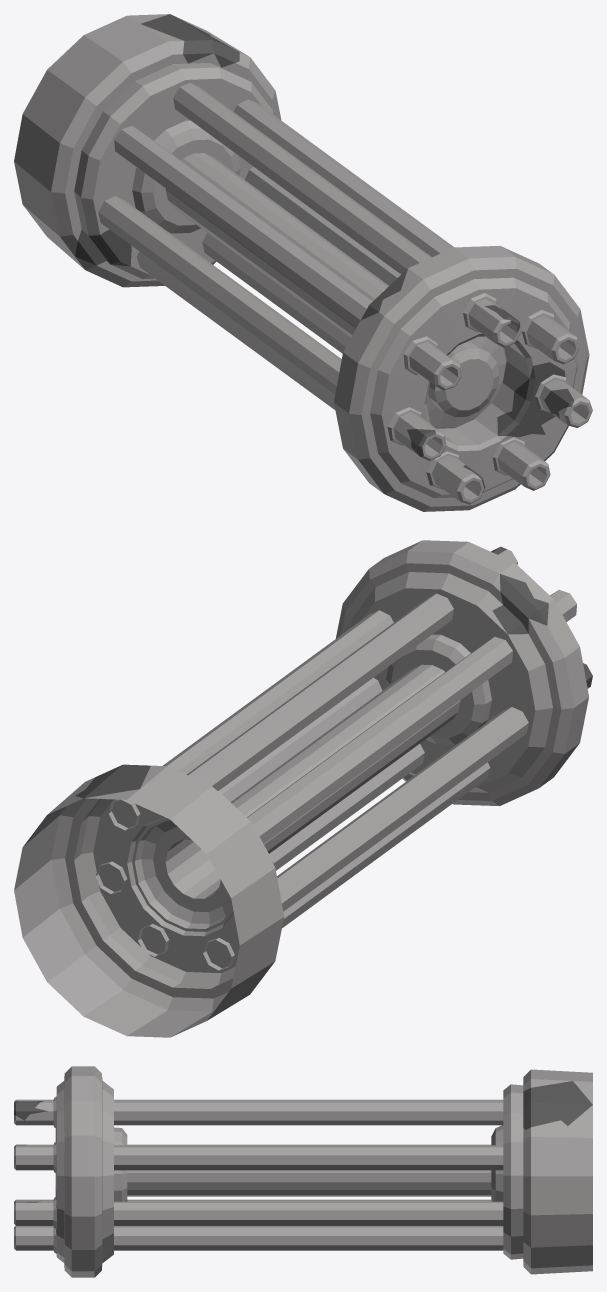
Rendered from GunTrap_1.fbx.
The picture shows the model from 3 angles, top to bottom: view 1: azimuth 30°, elevation 25°; view 2: azimuth 150°, elevation 25°; view 3: azimuth 270°, elevation 25°; orthographic projection. The views are drawn at different scales.
Parts seen in each view (by area): view 1: GunTrap_1; view 2: GunTrap_1; view 3: GunTrap_1.
Boxes of the visible parts, box(x1,y1,x2,y2) form: GunTrap_1: box(14, 14, 592, 511); GunTrap_1: box(14, 540, 592, 1037); GunTrap_1: box(14, 1066, 592, 1277).
Size of the model in its own units: 30.8 by 30.8 by 84.31.
